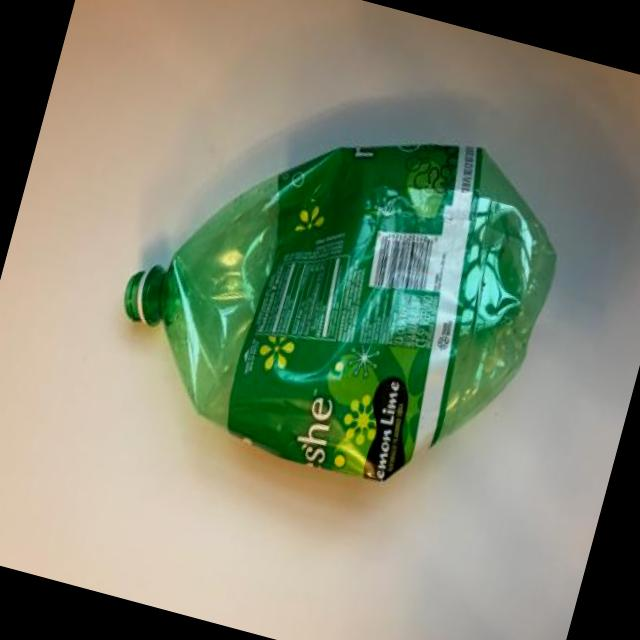Recycle: (89, 66, 580, 532)
